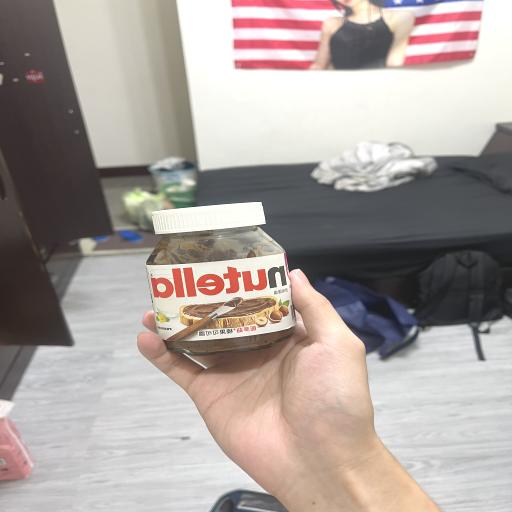chocolate_jar: (146, 203, 296, 356)
